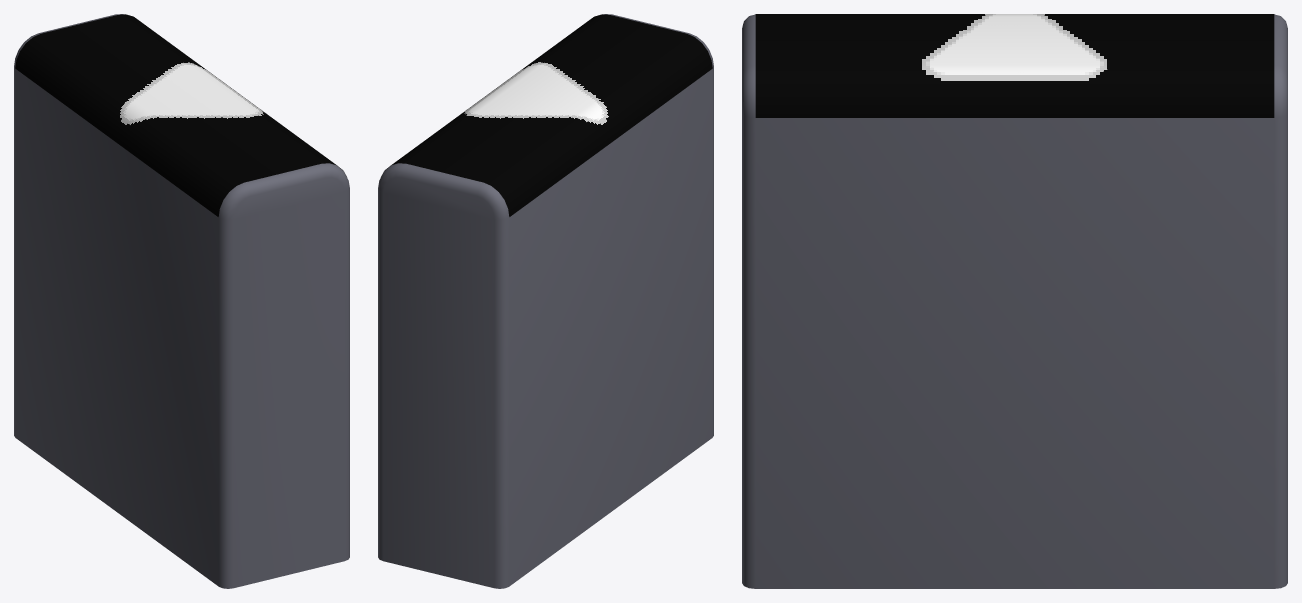
Rendered from SM_Grinder_1X_01.fbx.
3 views of the same model, side by side, from view 1: azimuth 30°, elevation 25°; view 2: azimuth 150°, elevation 25°; view 3: azimuth 270°, elevation 25° (orthographic). The views are drawn at different scales.
Visible parts, largest first — view 1: SM_Grinder_1X_01; view 2: SM_Grinder_1X_01; view 3: SM_Grinder_1X_01.
Boxes of the visible parts, <box> form: SM_Grinder_1X_01: <box>14,14,349,588</box>; SM_Grinder_1X_01: <box>378,14,713,588</box>; SM_Grinder_1X_01: <box>742,14,1287,588</box>.
Bounding box in the file's own units: 0.351 × 1 × 1.03.
